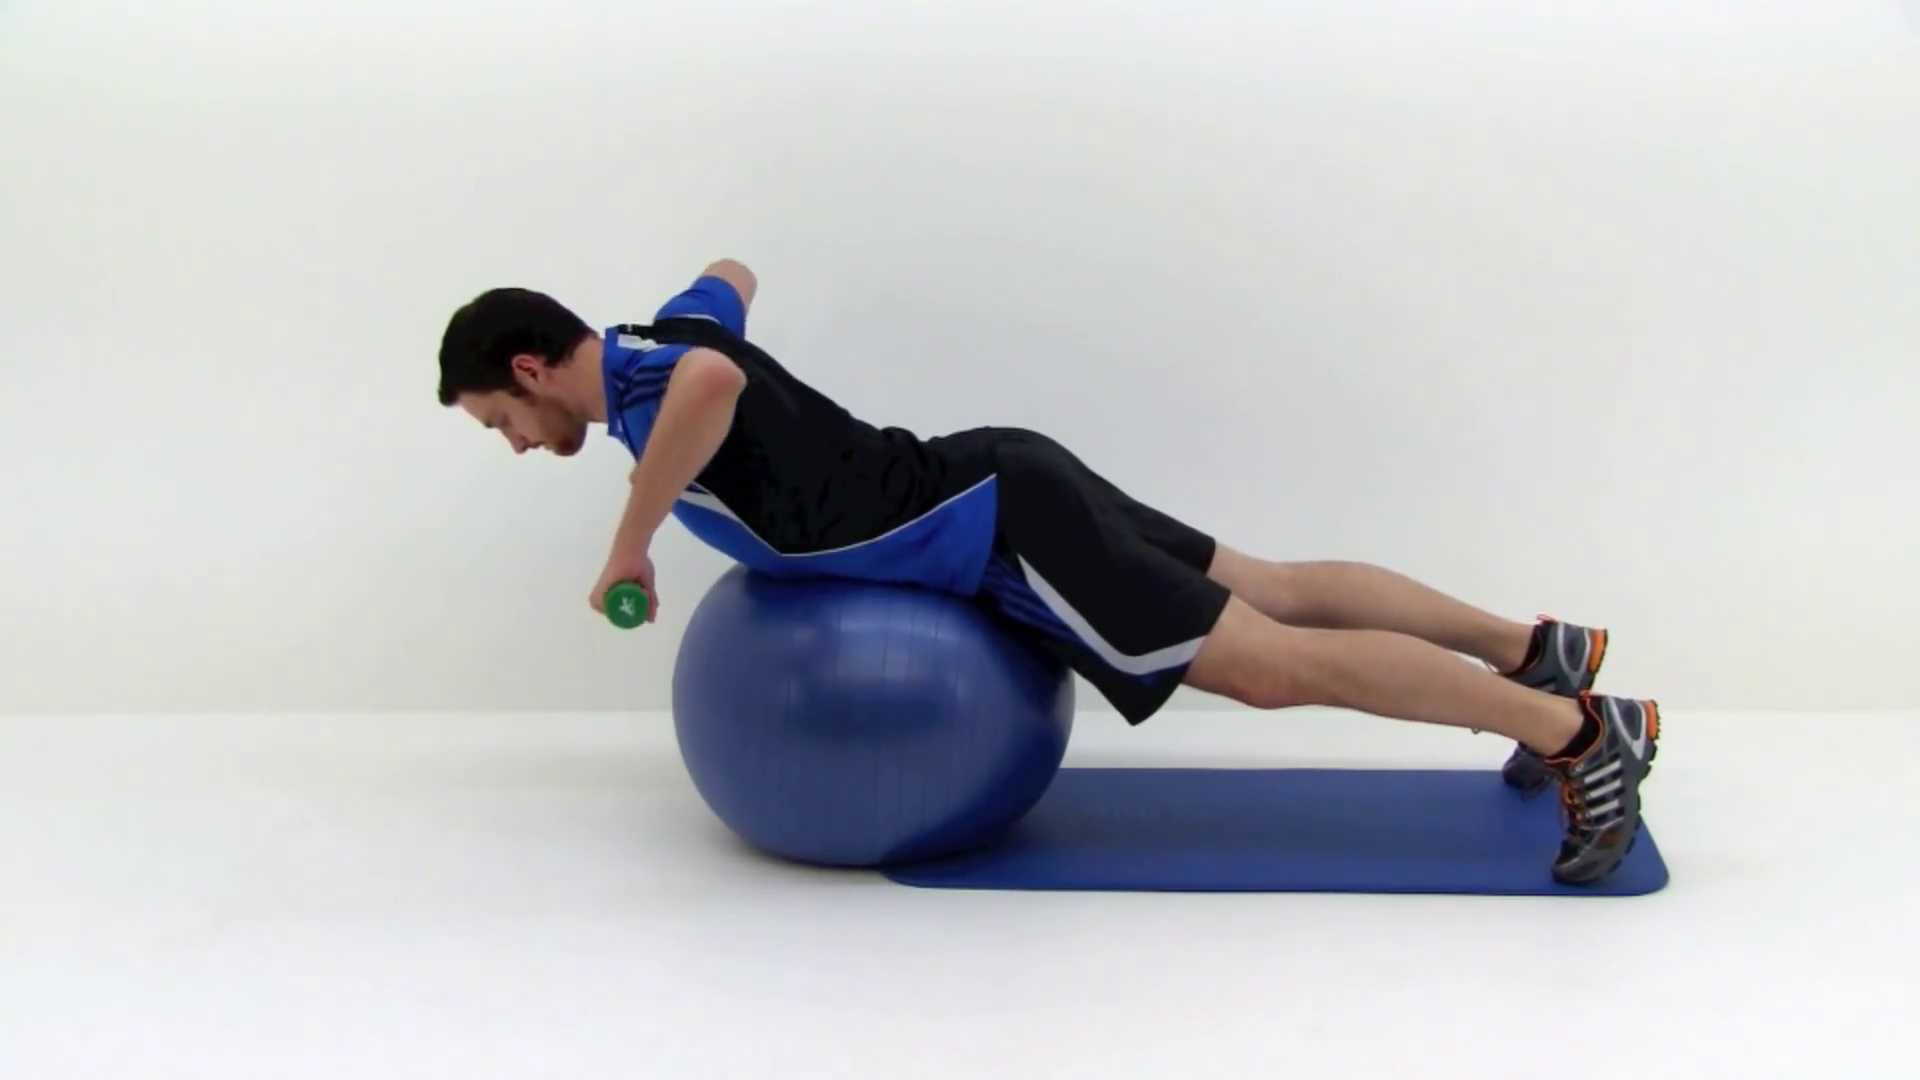yogaball: (651, 546, 1097, 868)
